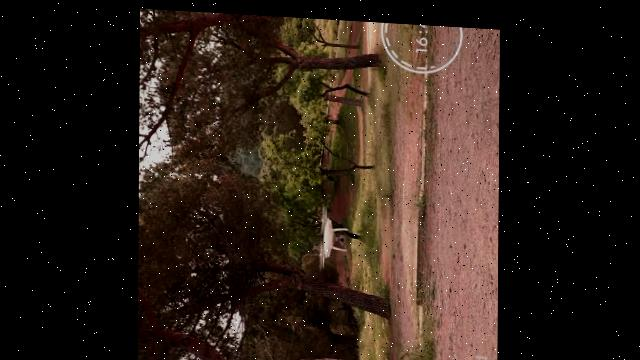drone: (318, 199, 350, 268)
